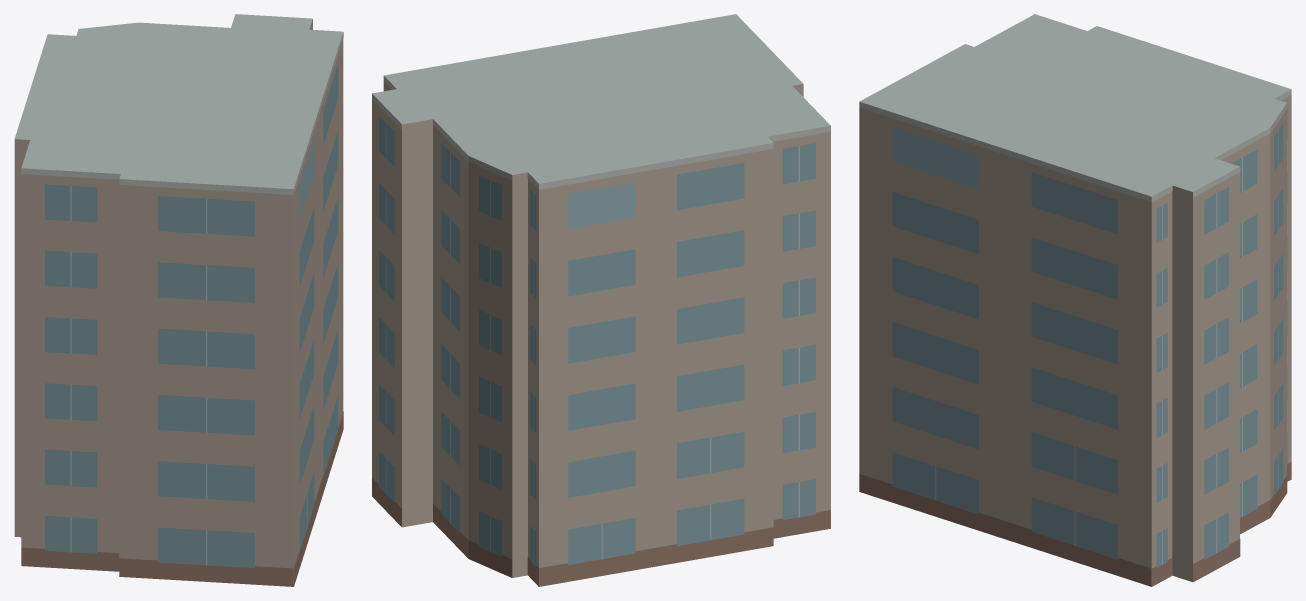
The model's file is survey-upis-32619124.glb.
The picture shows the model from 3 angles, left to right: view 1: azimuth 30°, elevation 25°; view 2: azimuth 150°, elevation 25°; view 3: azimuth 270°, elevation 25°; orthographic projection. The views are drawn at different scales.
Visible parts, largest first — view 1: survey-upis-32619124.tmp; view 2: survey-upis-32619124.tmp; view 3: survey-upis-32619124.tmp.
Boxes of the visible parts, left/top/right/bottom form: survey-upis-32619124.tmp: left=14, top=14, right=343, bottom=586; survey-upis-32619124.tmp: left=372, top=14, right=830, bottom=586; survey-upis-32619124.tmp: left=859, top=14, right=1291, bottom=586.
Size of the model in its own units: 16.68 by 16.6 by 16.68.
